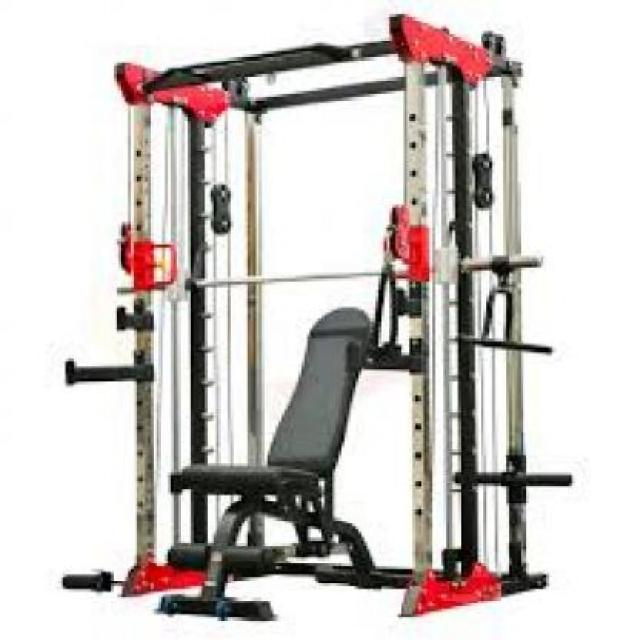smith machine: (64, 11, 574, 618)
